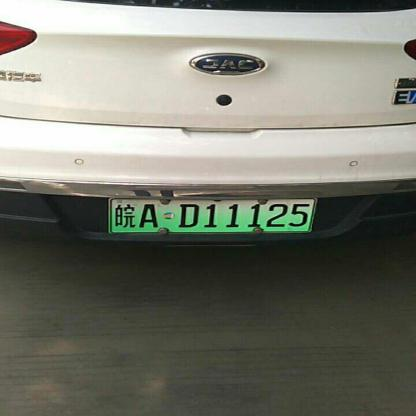lp: (110, 198, 314, 232)
